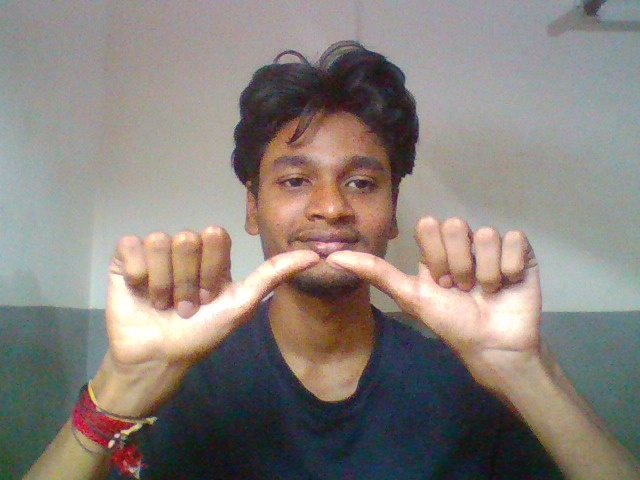A: (83, 213, 556, 365)
